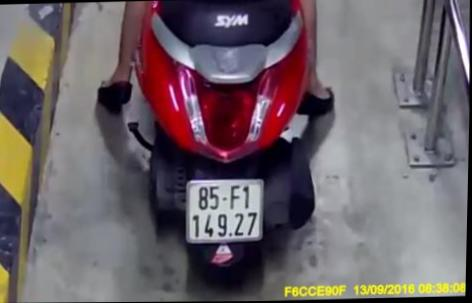LP: (185, 177, 267, 242)
